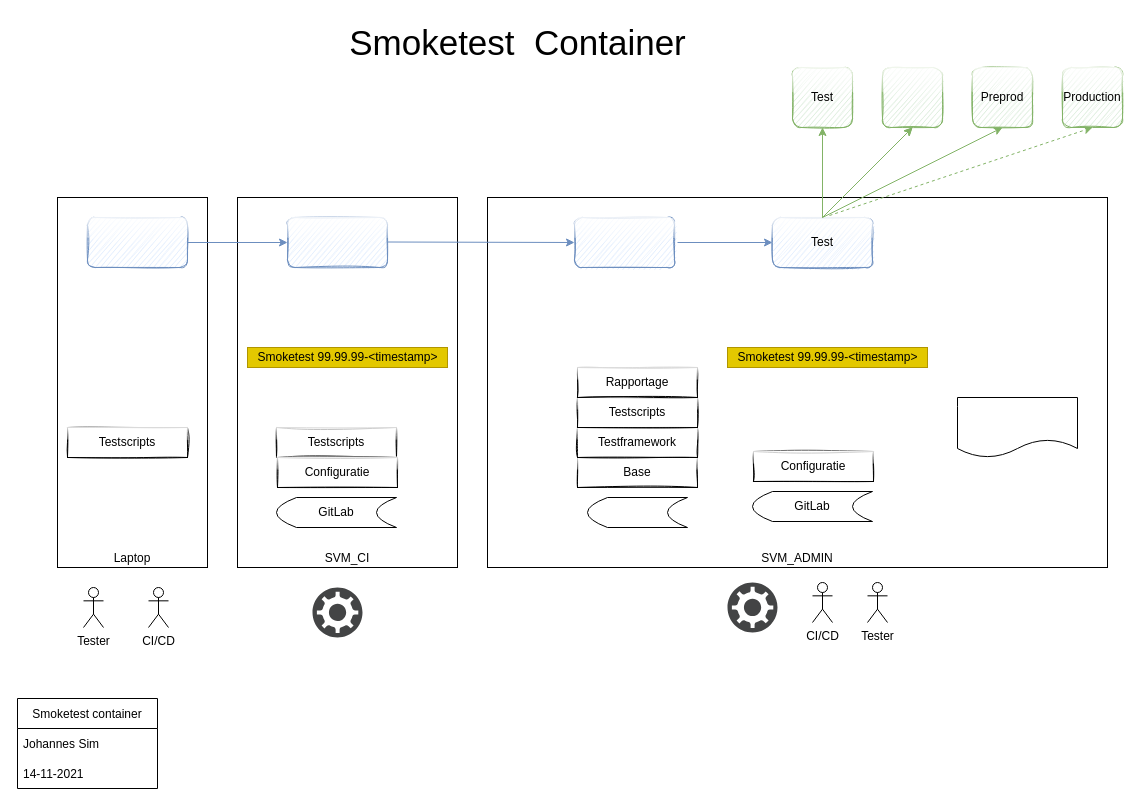
Some shapes in this 1140 by 806 pixel diagram are drawn without their labels. The centre of each missing label's shape, as x and y in pixels:
"Acceptatie" goes at (912,97).
"Build" goes at (337,242).
"Deploy" goes at (624,242).
"Develop" goes at (137,242).
"Rapport" goes at (1017,427).
"Registry" goes at (637,512).
